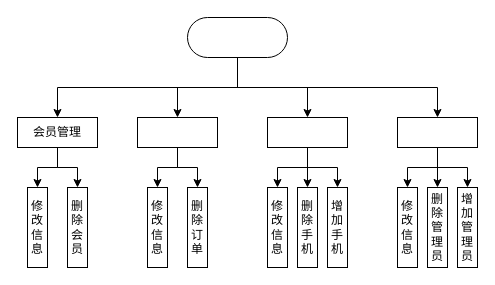
Image size: 495x285. Some labels were removed from this diagram. The centre of each missing label's shape, as x and y in pixels:
"后台管理系统" goes at point 237,37.
"手机管理" goes at point 307,132.
"管理员管理" goes at point 437,132.
"订单管理" goes at point 177,132.
